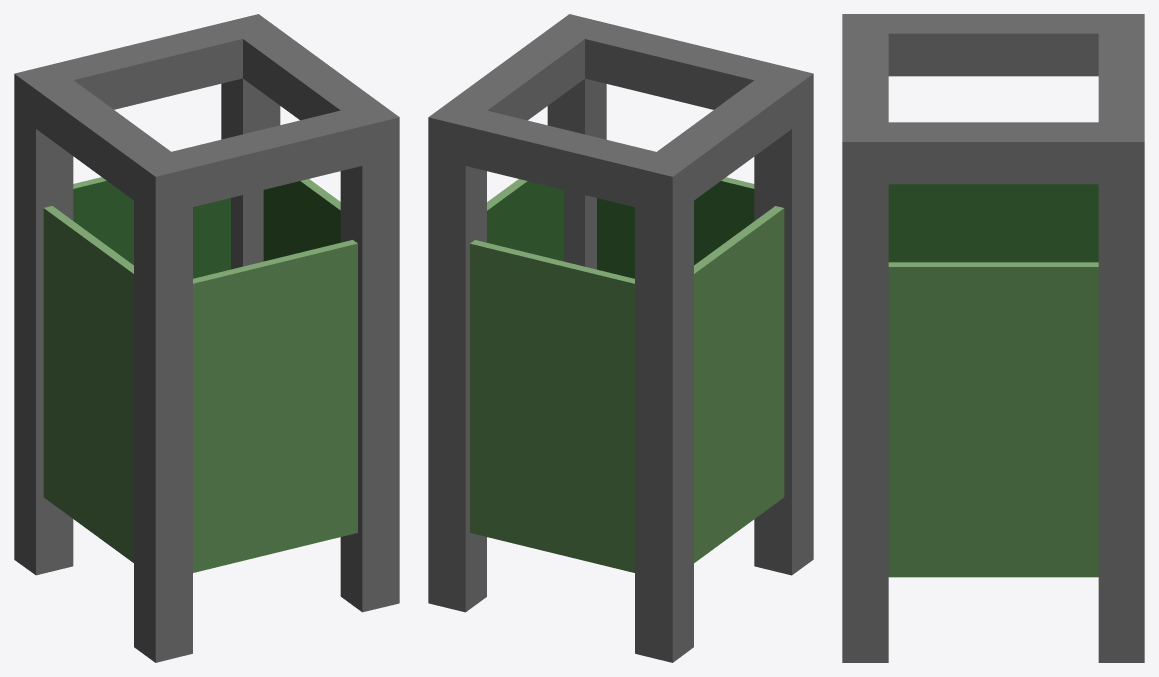
Rendered from Trash-02-A.fbx.
3 views of the same model, side by side, from view 1: azimuth 30°, elevation 25°; view 2: azimuth 150°, elevation 25°; view 3: azimuth 270°, elevation 25° (orthographic). The views are drawn at different scales.
Parts seen in each view (by area): view 1: Trash-02; view 2: Trash-02; view 3: Trash-02.
Boxes of the visible parts, left/top/right/bottom form: Trash-02: left=14, top=14, right=399, bottom=662; Trash-02: left=428, top=14, right=813, bottom=662; Trash-02: left=842, top=14, right=1144, bottom=662.
Size of the model in its own units: 0.5646 by 1.07 by 0.5646.
